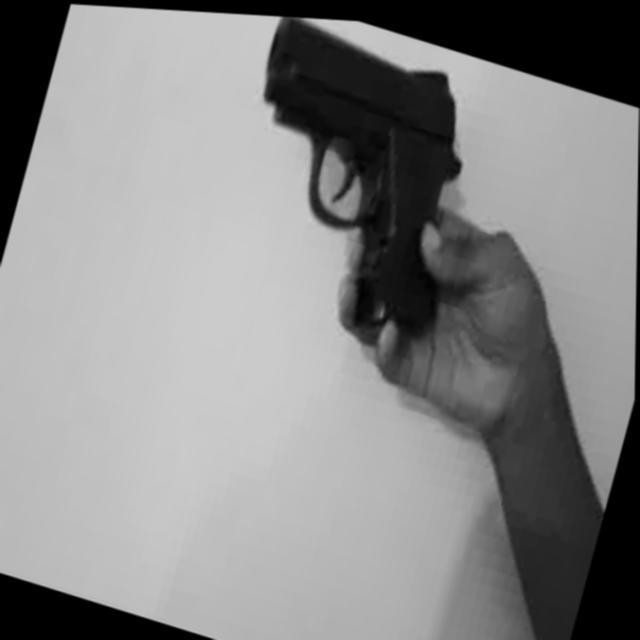weapon: (206, 10, 496, 343)
